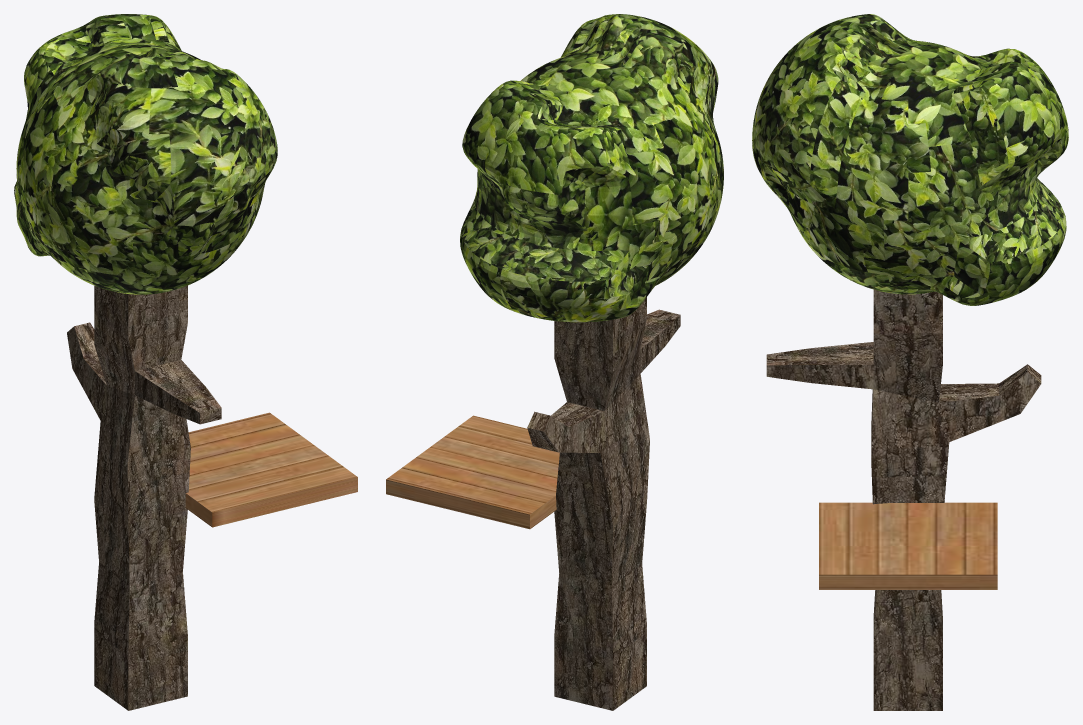
Rendered from tree.fbx.
3 views of the same model, side by side, from view 1: azimuth 30°, elevation 25°; view 2: azimuth 150°, elevation 25°; view 3: azimuth 270°, elevation 25° (orthographic). The views are drawn at different scales.
Visible parts, largest first — view 1: Sphere, Cube, Cube.001; view 2: Sphere, Cube, Cube.001; view 3: Sphere, Cube, Cube.001.
Boxes of the visible parts, box(x1,y1,x2,y2) form: Sphere: box(14, 14, 277, 294); Cube: box(67, 285, 221, 710); Cube.001: box(185, 412, 357, 527); Sphere: box(460, 14, 723, 322); Cube: box(527, 297, 680, 710); Cube.001: box(386, 415, 559, 529); Sphere: box(752, 14, 1068, 305); Cube: box(766, 289, 1041, 710); Cube.001: box(819, 502, 997, 589).
Bounding box in the file's own units: 945 × 2123 × 911.
